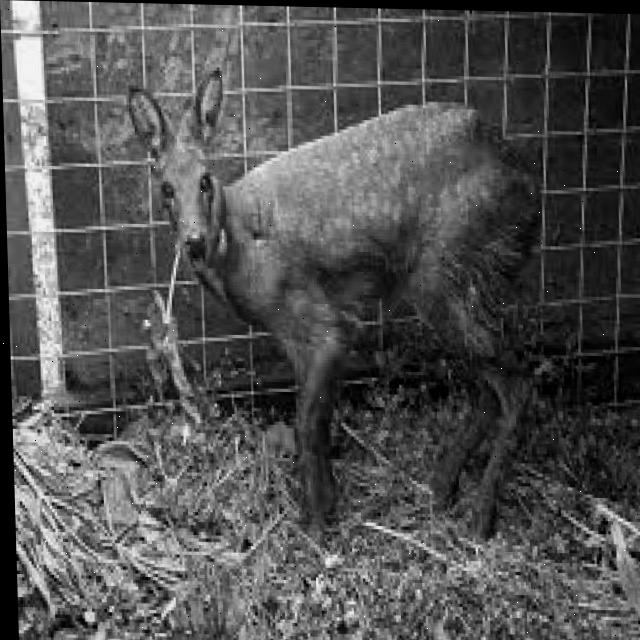Deer: (117, 46, 570, 565)
